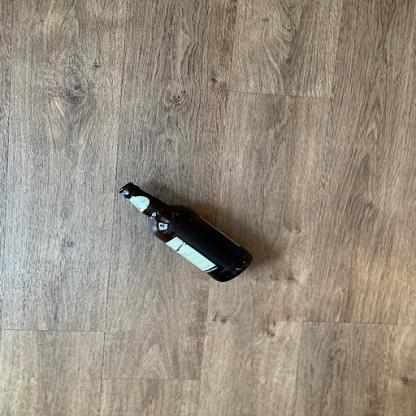trash: (119, 182, 258, 286)
